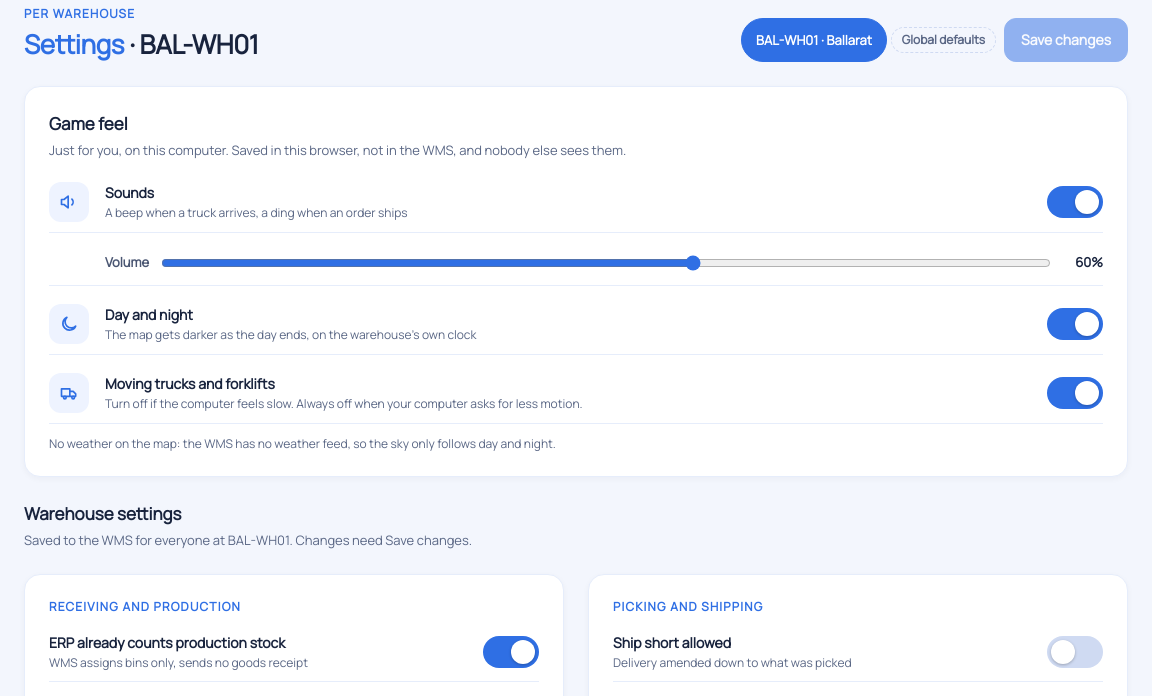
Settings › patches only the keys that changed
Click the switch named "Ship short allowed" in the row of "Delivery amended down to what was picked": [1075, 652] box [1047,636,1103,668]
(page scrolled)
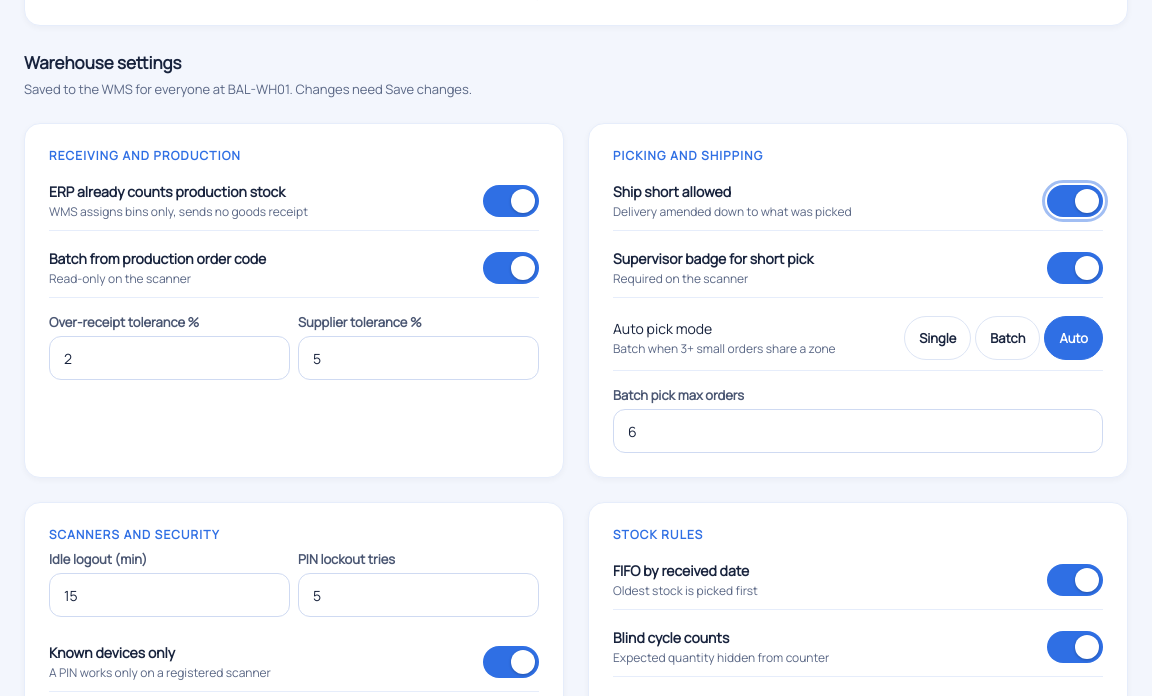
Replace the text in the number field labelled "Over-receipt tolerance %" with "10": [170, 358] box [49,336,290,380]
(page scrolled)
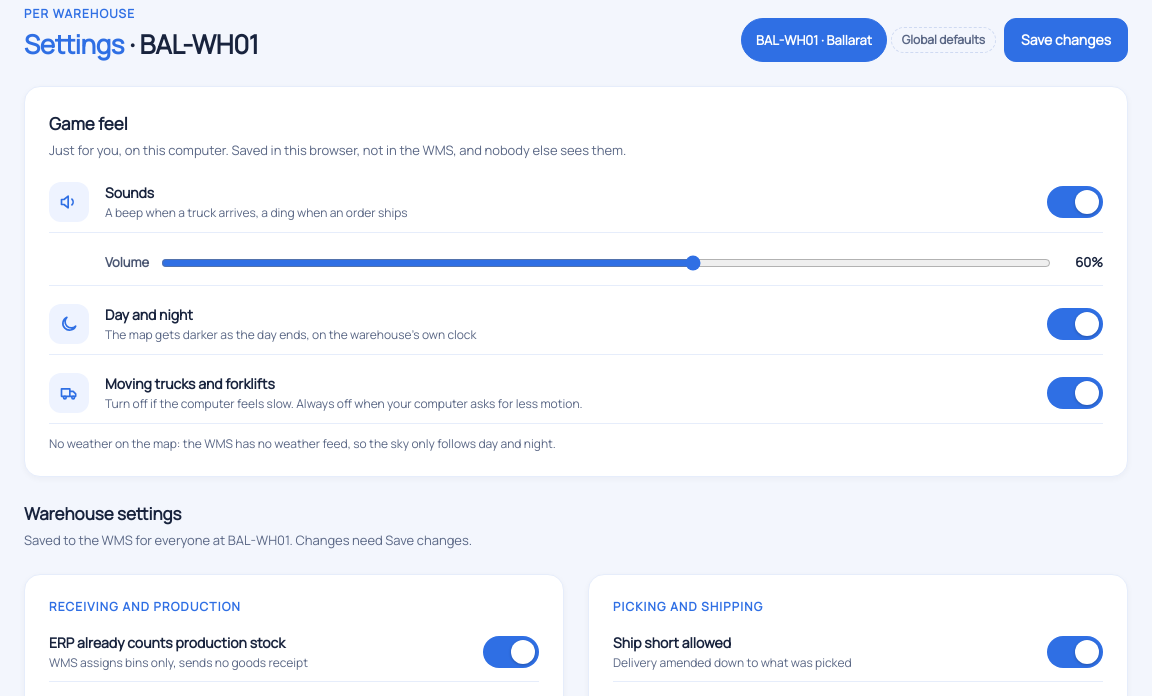
Check: the button "Save changes" is enabled
Click the button "Save changes": [1066, 40] box [1004,18,1128,62]
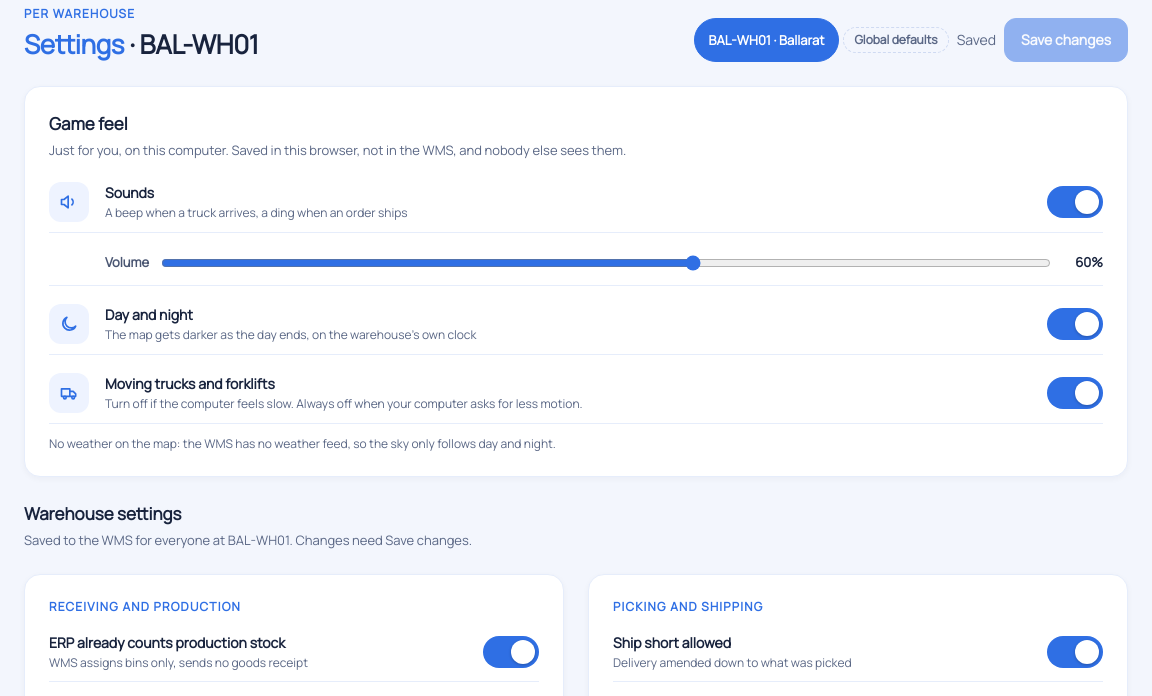
Check: the switch named "Ship short allowed" in the row of "Delivery amended down to what was picked" is checked, box [1047,636,1103,668]
Check: the text "Saved" is shown, box [957,30,996,50]
Check: the button "Save changes" is disabled, box [1004,18,1128,62]
